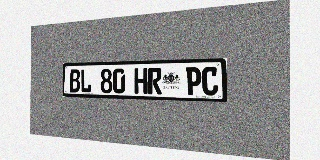0: (113, 68, 125, 93)
8: (100, 69, 112, 93)
B: (69, 69, 80, 92)
C: (202, 66, 218, 96)
H: (134, 68, 147, 94)
L: (80, 69, 91, 93)
P: (186, 67, 201, 95)
R: (148, 68, 162, 94)
